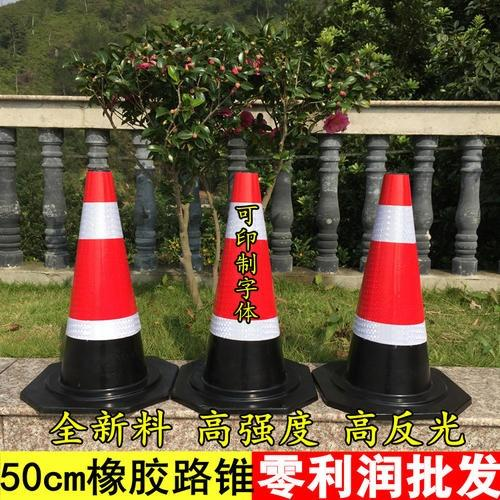cone_barrel: (47, 145, 158, 404), (334, 175, 448, 407), (186, 171, 301, 399)
